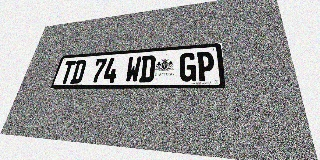4: (102, 57, 120, 83)
7: (90, 58, 107, 83)
D: (139, 55, 156, 82), (70, 60, 87, 84)
G: (179, 52, 196, 82)
P: (197, 51, 215, 81)
T: (59, 60, 76, 84)
W: (124, 56, 142, 83)
